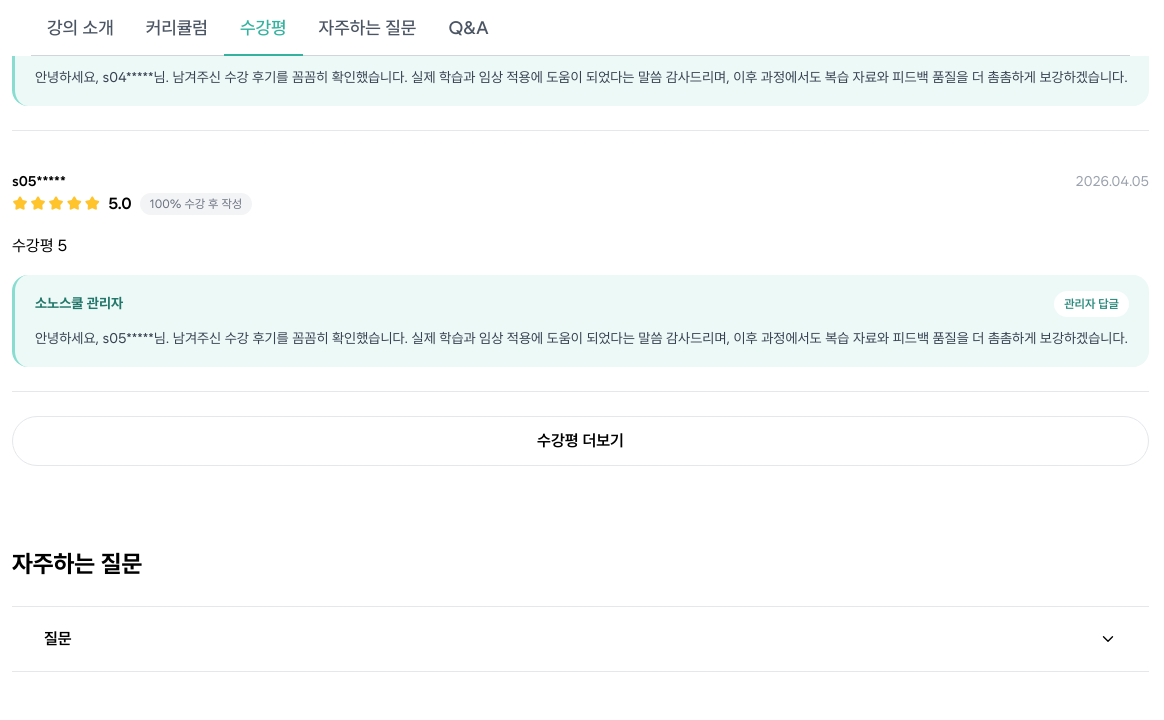
Test: ProgramPageDetailMainContent › 전체 수강평 목록을 5개씩 더 보여준다
This screenshot has width=1164, height=720.
(page scrolled)
Expected: the text "수강평 5" is shown, [12, 236, 67, 255]
Expected: the text "수강평 6" is not shown
Click the button "수강평 더보기" at (580, 441), box [12, 416, 1149, 466]
(page scrolled)
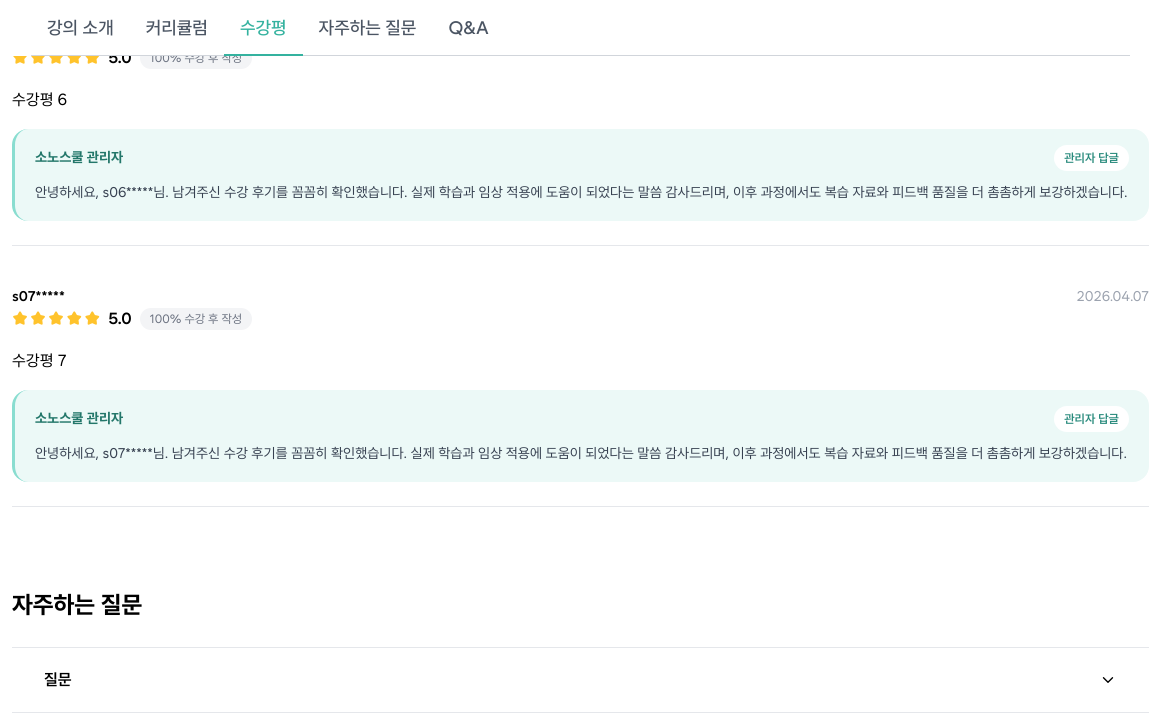
Expected: the text "수강평 6" is shown, [12, 90, 67, 109]
Expected: the text "수강평 7" is shown, [12, 351, 66, 370]
Expected: the button "수강평 더보기" is gone
